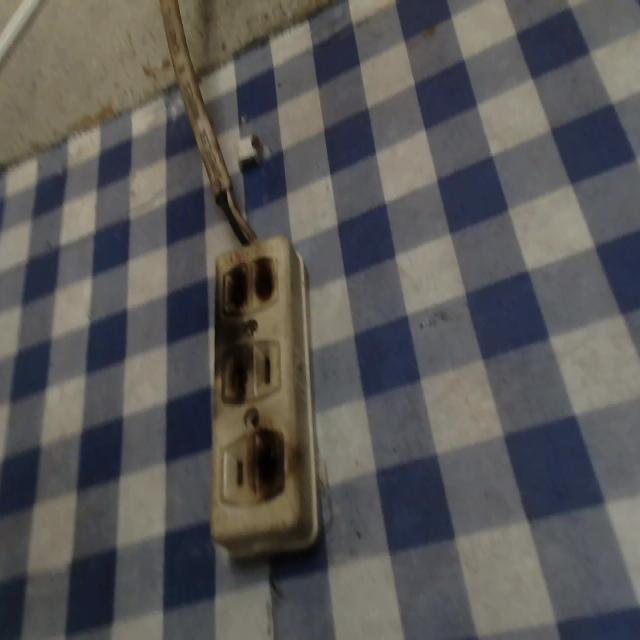-: (248, 427, 290, 504), (219, 258, 279, 310), (220, 337, 255, 400)
